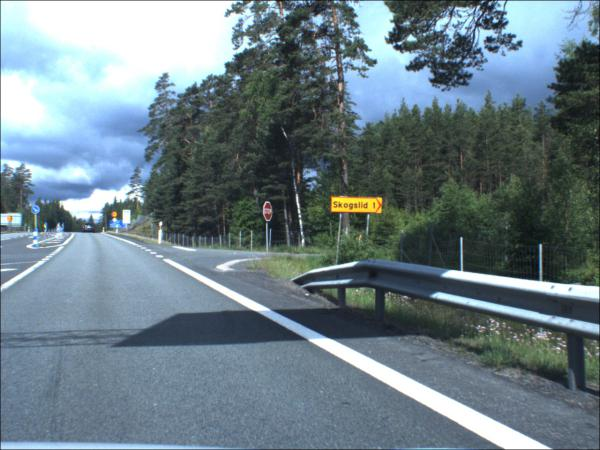100_SIGN: (113, 212, 120, 219), (8, 217, 14, 223)
PASS_RIGHT_SIDE: (33, 207, 42, 216)
PRIORITY_ROAD: (114, 219, 119, 224)
STOP: (265, 202, 275, 223)
